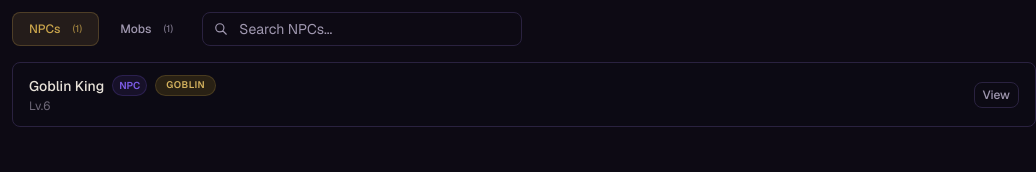
Scenario: NpcsMobsSection › switches back to NPCs tab
Expected: the text "Goblin King" is shown, [29,76,104,96]
Note: Switch to Mobs
Click the button "Mobs (1)".
click(147, 29)  # box [103,12,190,46]
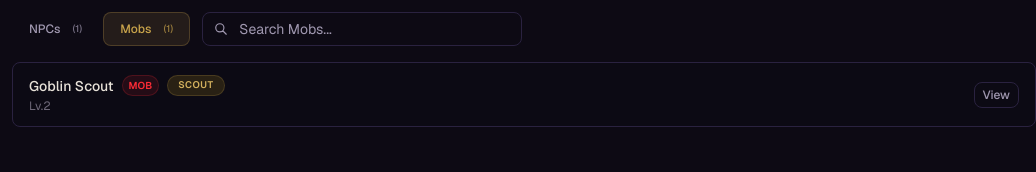
Expected: the text "Goblin Scout" is shown, [29,76,114,96]
Note: Switch back to NPCs
Click the button "NPCs (1)".
click(56, 29)  # box [12,12,99,46]
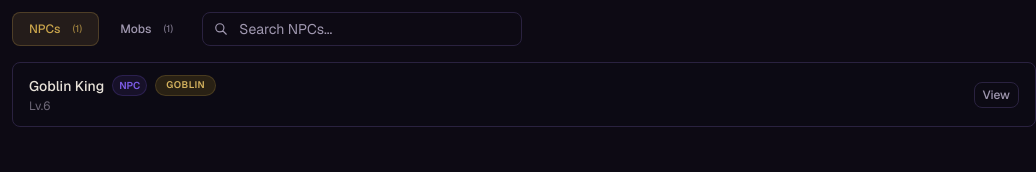
Expected: the text "Goblin King" is shown, [29,76,104,96]
Expected: the text "Goblin Scout" is gone
